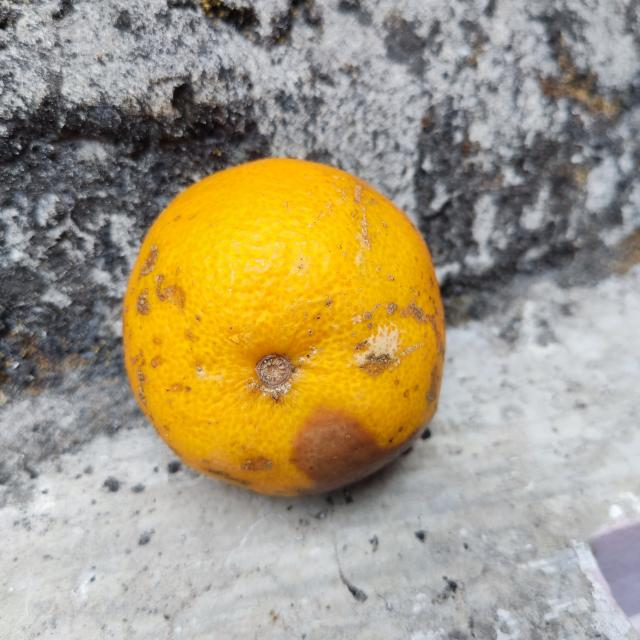orange: (121, 155, 445, 499)
